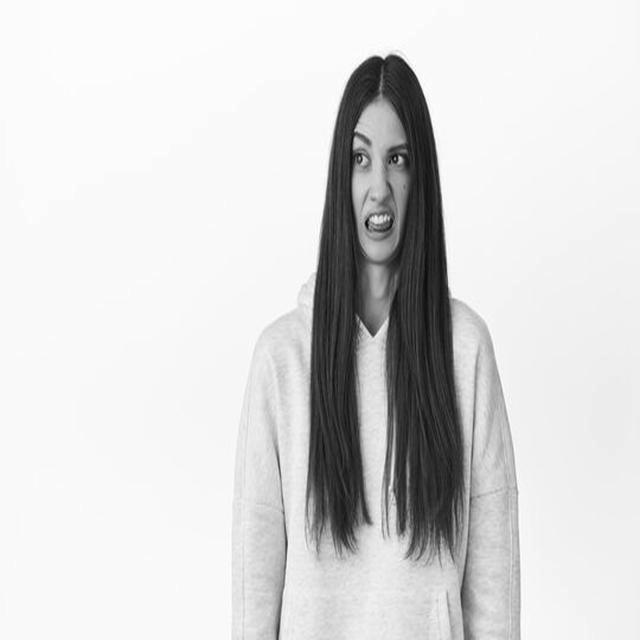Disgust: (345, 95, 416, 263)
